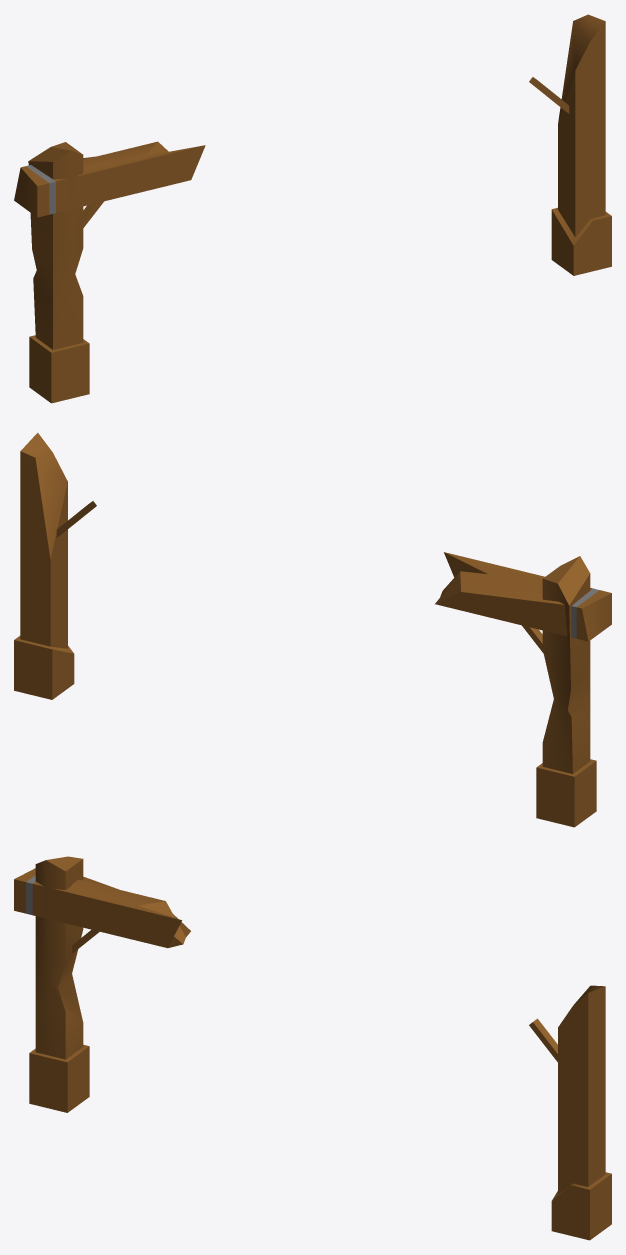
File: Arco de madeira Cumprido quebrado.fbx
The picture shows the model from 3 angles, top to bottom: view 1: azimuth 30°, elevation 25°; view 2: azimuth 150°, elevation 25°; view 3: azimuth 330°, elevation 25°; orthographic projection.
Parts seen in each view (by area): view 1: Cube.048; view 2: Cube.048; view 3: Cube.048.
Boxes of the visible parts, x1,y1,x2,y2 form: Cube.048: [14, 14, 611, 403]; Cube.048: [14, 432, 611, 827]; Cube.048: [14, 856, 611, 1240].
Bounding box in the file's own units: 1028 × 426 × 84.05.
